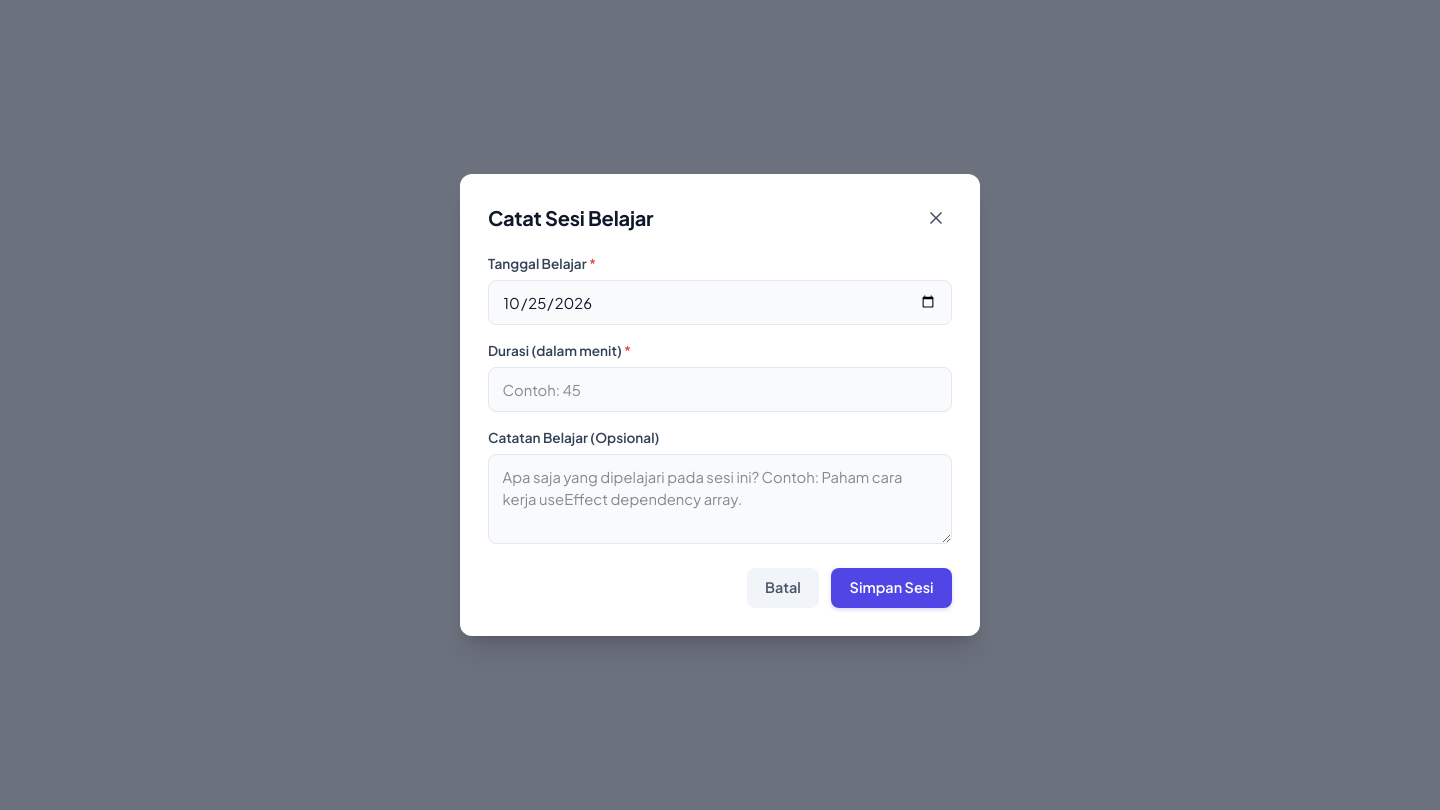
it: SesiForm Component tests › menampilkan pesan validasi jika durasi menit kosong
The width and height of the screenshot is (1440, 810).
Click the button "Simpan Sesi": coordinates (892, 588) left=831, top=568, right=952, bottom=608
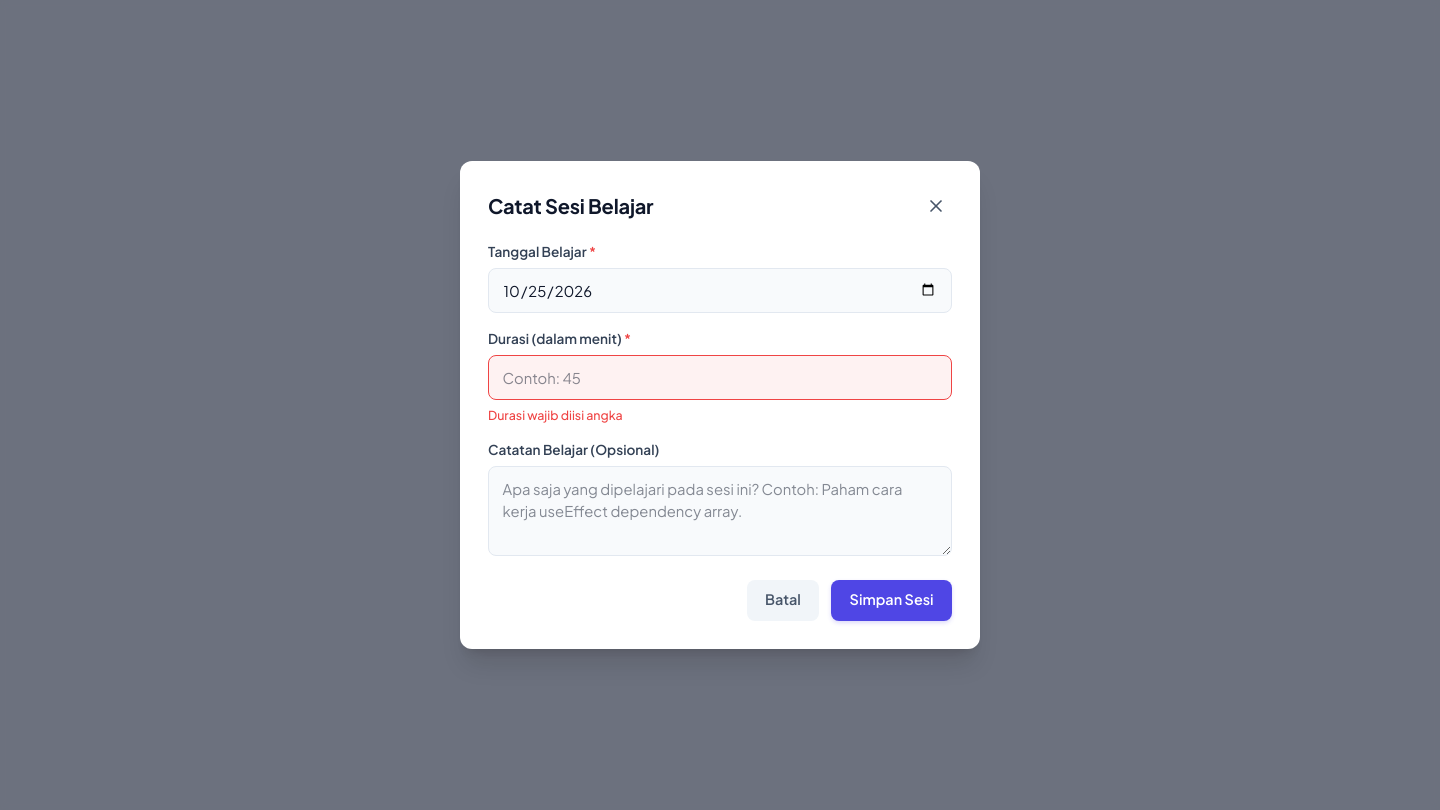
Expected: the text "Durasi wajib diisi angka" is shown, left=488, top=407, right=623, bottom=423
